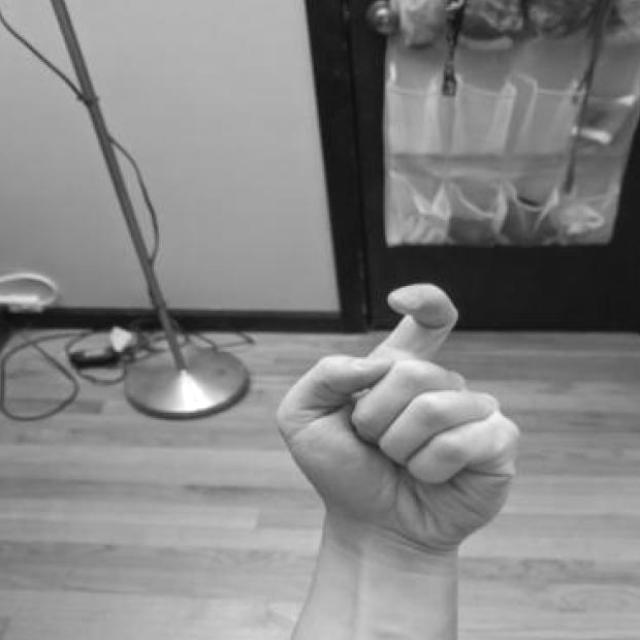X: (257, 279, 531, 564)
